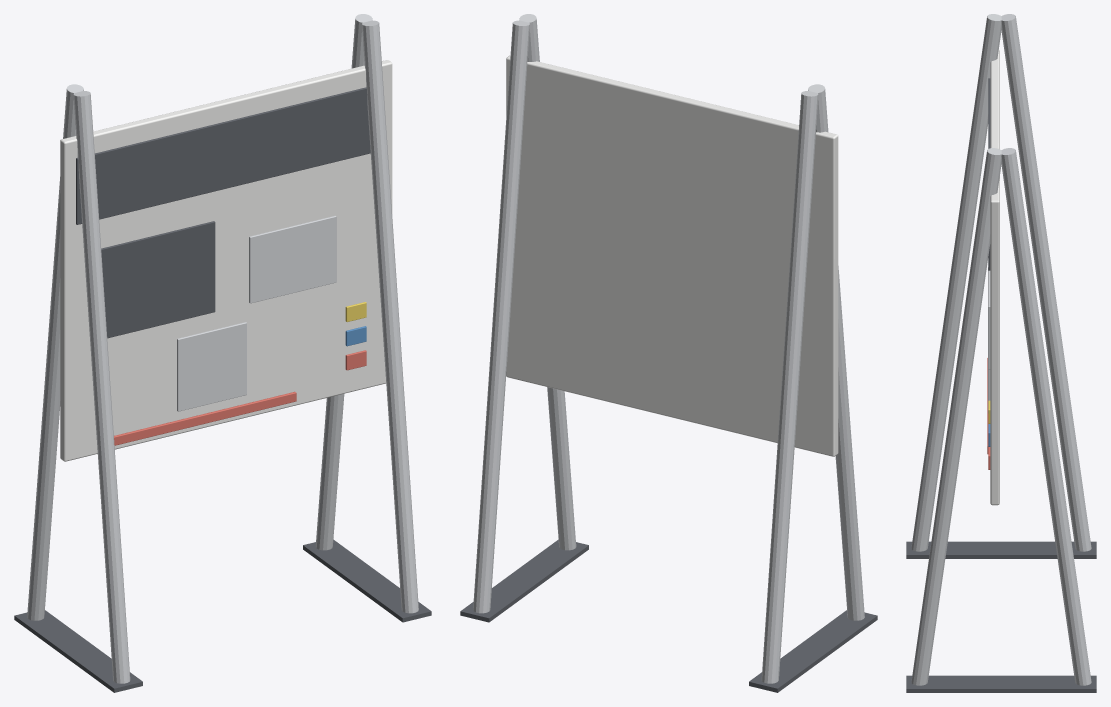
3 renders of one model, left to right at view 1: azimuth 30°, elevation 25°; view 2: azimuth 150°, elevation 25°; view 3: azimuth 270°, elevation 25°, orthographic. The views are drawn at different scales.
Visible parts, largest first — view 1: floor-plan-board; view 2: floor-plan-board; view 3: floor-plan-board.
Boxes of the visible parts, left/top/right/bottom form: floor-plan-board: left=14, top=14, right=431, bottom=692; floor-plan-board: left=460, top=14, right=877, bottom=692; floor-plan-board: left=906, top=14, right=1096, bottom=692.
Bounding box in the file's own units: 1.14 × 1.87 × 0.6001.
